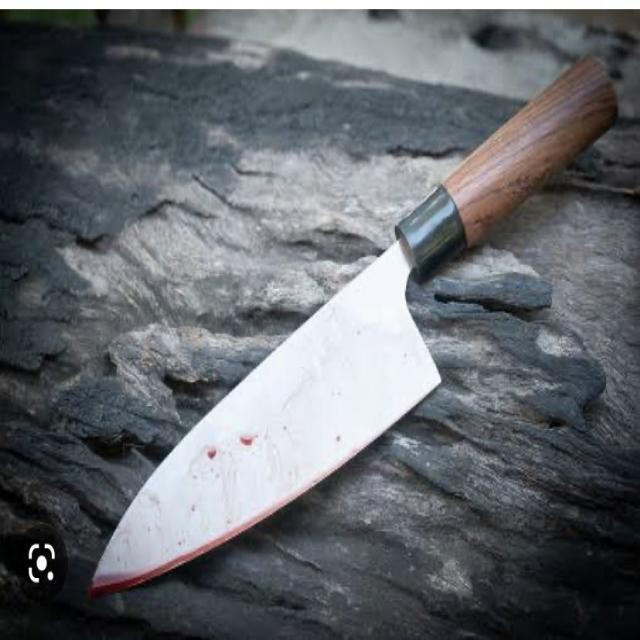Knife: (72, 48, 634, 624)
